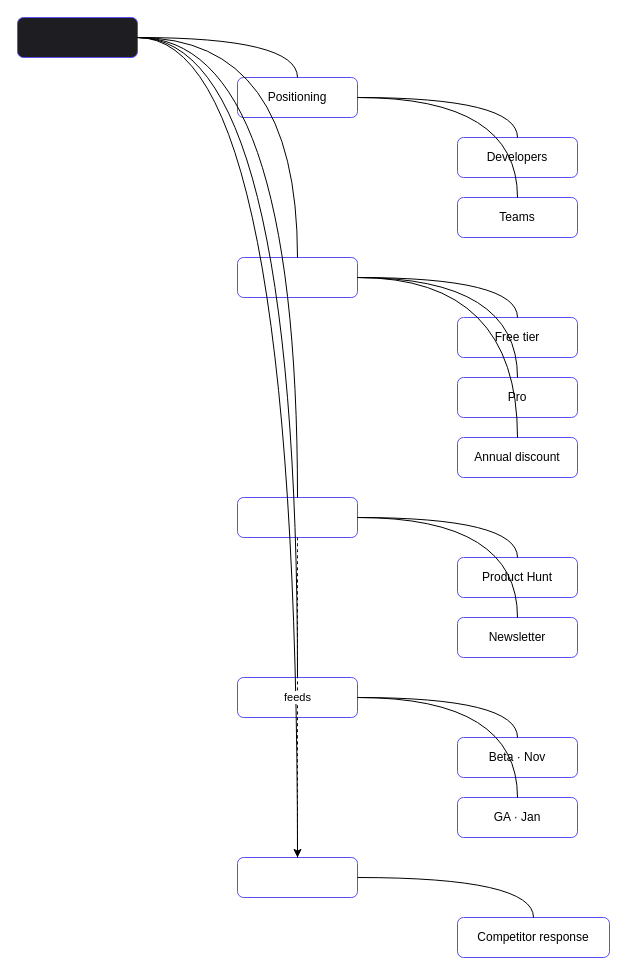
This 627x975 diagram has some shape labels left out. Each missing label, with the box of its shape:
Channels: (236, 496, 358, 538)
Launch plan: (16, 16, 138, 58)
Pricing: (236, 256, 358, 298)
Risks: (236, 856, 358, 898)
Timeline: (236, 676, 358, 718)
